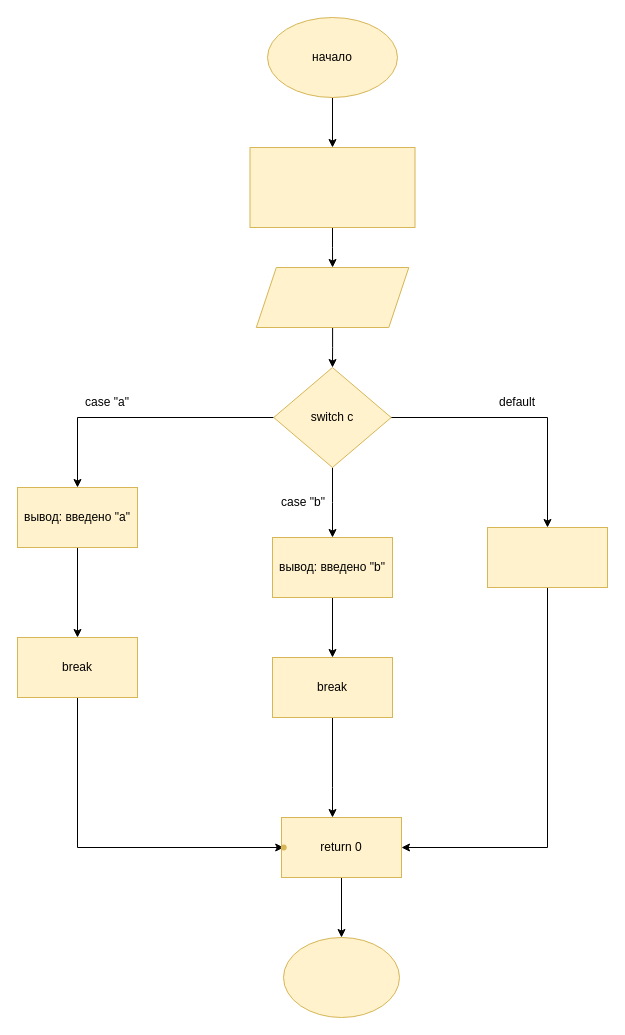
The diagram is 625 pixels wide and 1035 high, and some of its shapes have lost their labels. Here are the shapes that lost their labels. From the top down, the centre of each, then its label:
(332,187): вывод: "Введите символы "а" or "b"
(332,297): ввод символа с
(547,557): вывод: неизвестный символ
(341,977): конец
